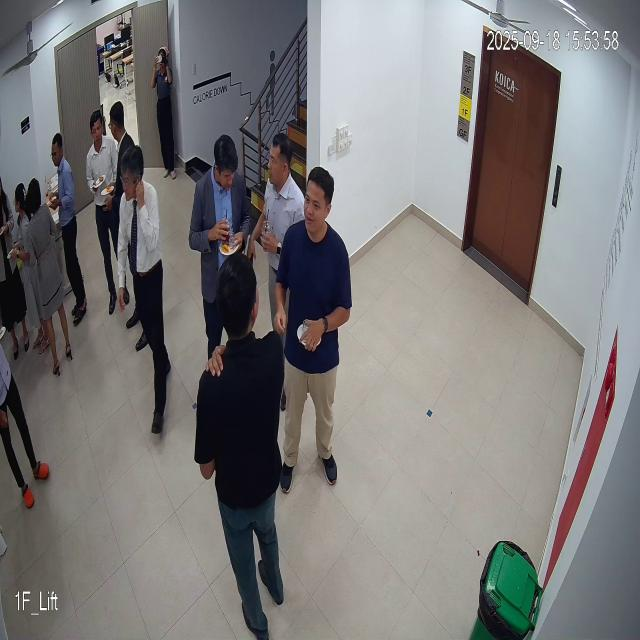face: (303, 168, 334, 235), (116, 146, 150, 203), (266, 128, 293, 191)
